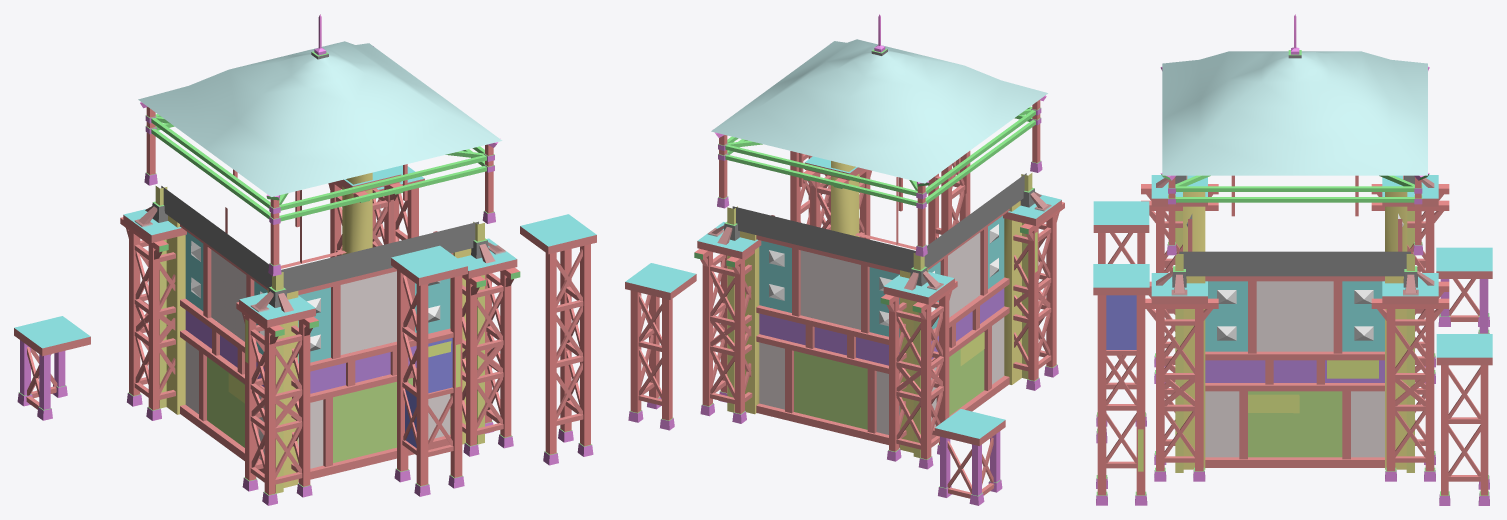
File: L2fortress_02_s__fort02_command_b.gltf
3 renders of one model, left to right at view 1: azimuth 30°, elevation 25°; view 2: azimuth 150°, elevation 25°; view 3: azimuth 270°, elevation 25°, orthographic. The views are drawn at different scales.
Visible parts, largest first — view 1: fort02_command_b; view 2: fort02_command_b; view 3: fort02_command_b.
Boxes of the visible parts, x1,y1,x2,y2 form: fort02_command_b: [14, 14, 596, 505]; fort02_command_b: [625, 14, 1064, 505]; fort02_command_b: [1093, 14, 1492, 505].
Bounding box in the file's own units: 10.27 × 10.51 × 9.32.
